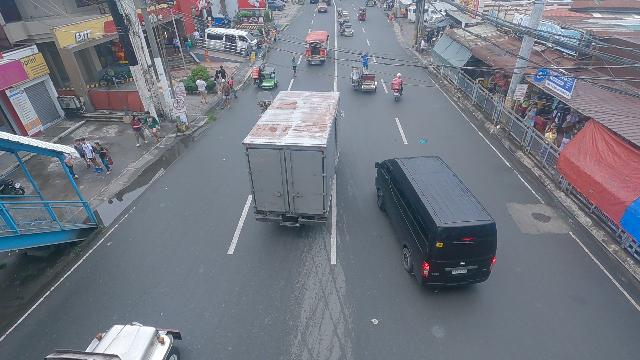car: (267, 0, 286, 11), (317, 3, 328, 13)
jeepney: (304, 30, 329, 64)
motorcycle: (391, 74, 406, 100), (384, 1, 393, 10)
truck: (240, 89, 342, 227)
van: (372, 154, 498, 287), (203, 26, 254, 57)
